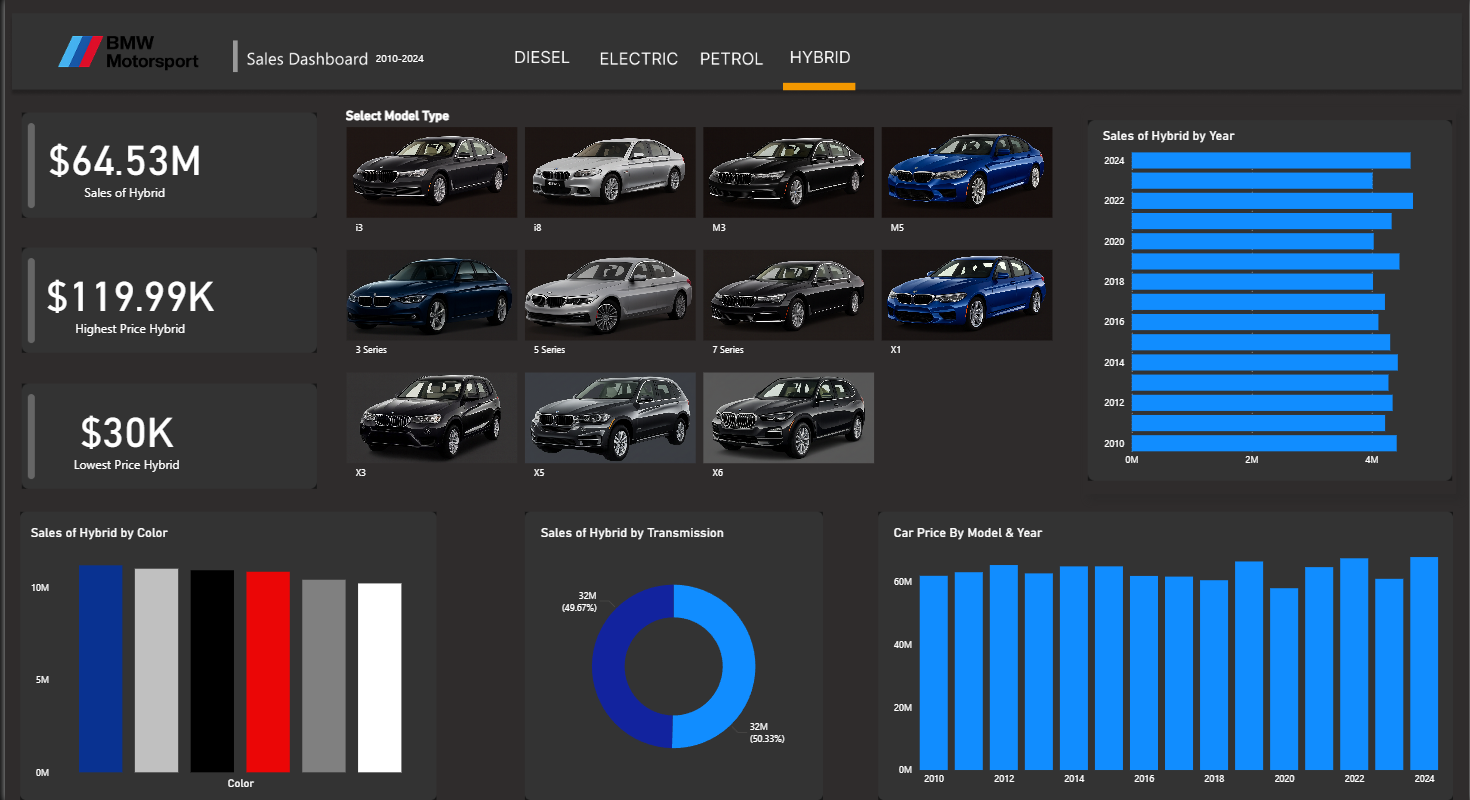

The page's visual inventory and layout, read from the dashboard file:
{"tool":"powerbi","page":{"name":"Hybrid","canvas":[1920,1056],"ordinal":3},"visuals":[{"type":"image","box":[16.5,143.7,396.6,149.6],"z":0},{"type":"image","box":[16.5,321.7,396.6,149.6],"z":1000},{"type":"image","box":[16.5,499.8,396.6,149.6],"z":2000},{"type":"image","box":[1415.7,143.7,487.9,505.8],"z":3000},{"type":"image","box":[0,668.9,585.1,387.6],"z":4000},{"type":"image","box":[631.5,668.9,493.8,387.6],"z":5000},{"type":"image","box":[1125.4,668.9,794.6,387.6],"z":6000},{"type":"actionButton","box":[776.6,52.4,112.9,40.3],"z":7000},{"type":"actionButton","box":[904.2,52.4,95.4,40.3],"z":8000},{"type":"actionButton","box":[1019.8,52.4,95.4,40.3],"z":9000},{"type":"card","fields":{"Values":["Hybrid Measure.Sales of Hybrid"]},"box":[48.6,156.3,227.2,122.1],"z":10000},{"type":"card","fields":{"Values":["Hybrid Measure.Highest Price Hybrid"]},"box":[48.6,334.9,236.4,122.1],"z":11000},{"type":"card","fields":{"Values":["Hybrid Measure.Lowest Price Hybrid"]},"box":[48.6,513.6,227.2,122.1],"z":12000},{"type":"barChart","fields":{"Category":["BMW sales data 2010-2024.Year.Variation.Date Hierarchy.Year"],"Y":["Hybrid Measure.Sales of Hybrid"]},"box":[1435.6,170.7,450.5,453.1],"z":13000},{"type":"columnChart","fields":{"Category":["BMW sales data 2010-2024.Color"],"Y":["Hybrid Measure.Sales of Hybrid"]},"box":[28.6,691.4,527.1,351.4],"z":14000},{"type":"donutChart","fields":{"Category":["BMW sales data 2010-2024.Transmission"],"Y":["Hybrid Measure.Sales of Hybrid"]},"box":[697.4,690.9,358.6,352],"z":15000},{"type":"advancedSlicerVisual","title":"Select Model Type","fields":{"Values":["Car Images.Links"],"Label":["Min(Car Images.Model)"]},"box":[441.4,144.3,938.6,505.7],"z":16000},{"type":"lineStackedColumnComboChart","title":"Car Price By Model & Year","fields":{"Y":["Sum(BMW sales data 2010-2024.Price_USD)"],"Category":["BMW sales data 2010-2024.Year.Variation.Date Hierarchy.Year"]},"box":[1161.4,691.4,724.3,351.4],"z":17000},{"type":"image","box":[0,0,1920,150.5],"z":18000},{"type":"actionButton","box":[656.7,54.6,100.1,40.3],"z":19000},{"type":"actionButton","box":[776.4,54.6,113.1,40.3],"z":20000},{"type":"actionButton","box":[903.8,54.6,96.2,40.3],"z":21000},{"type":"textbox","box":[478.6,67.6,87.1,24.7],"z":22000}]}

Visuals, with their boxes in screenshot pixels (x1, y1, x2, y2), scaled from the page's 1920x1056 canvas onto the 1470x800 screenshot:
image: detection(13, 109, 316, 222)
image: detection(13, 244, 316, 357)
image: detection(13, 379, 316, 492)
image: detection(1084, 109, 1457, 492)
image: detection(0, 507, 448, 799)
image: detection(483, 507, 862, 799)
image: detection(862, 507, 1469, 799)
actionButton: detection(595, 40, 681, 70)
actionButton: detection(692, 40, 765, 70)
actionButton: detection(781, 40, 854, 70)
card - Hybrid Measure.Sales of Hybrid: detection(37, 118, 211, 211)
card - Hybrid Measure.Highest Price Hybrid: detection(37, 254, 218, 346)
card - Hybrid Measure.Lowest Price Hybrid: detection(37, 389, 211, 482)
barChart - BMW sales data 2010-2024.Year.Variation.Date Hierarchy.Year x Hybrid Measure.Sales of Hybrid: detection(1099, 129, 1444, 473)
columnChart - BMW sales data 2010-2024.Color x Hybrid Measure.Sales of Hybrid: detection(22, 524, 425, 790)
donutChart - BMW sales data 2010-2024.Transmission x Hybrid Measure.Sales of Hybrid: detection(534, 523, 808, 790)
"Select Model Type" advancedSlicerVisual: detection(338, 109, 1057, 492)
"Car Price By Model & Year" lineStackedColumnComboChart: detection(889, 524, 1444, 790)
image: detection(0, 0, 1469, 114)
actionButton: detection(503, 41, 579, 72)
actionButton: detection(594, 41, 681, 72)
actionButton: detection(692, 41, 766, 72)
textbox: detection(366, 51, 433, 70)
